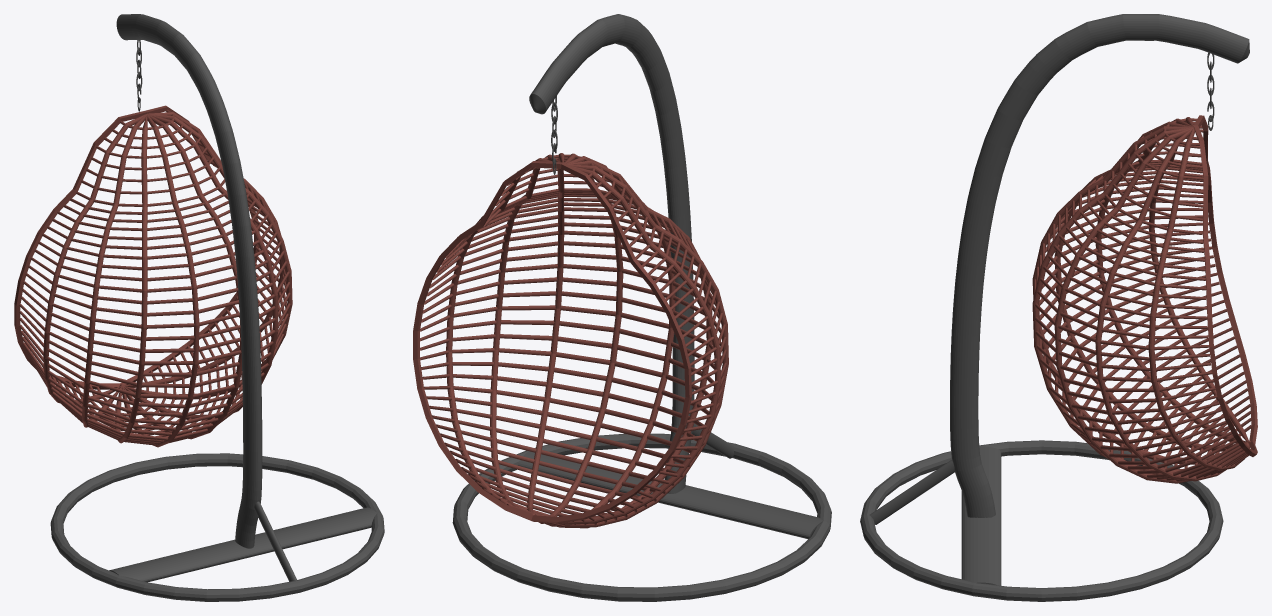
Rendered from duyan-1.fbx.
The picture shows the model from 3 angles, left to right: view 1: azimuth 30°, elevation 25°; view 2: azimuth 150°, elevation 25°; view 3: azimuth 270°, elevation 25°; orthographic projection. The views are drawn at different scales.
Visible parts, largest first — view 1: Sphere.001, Cylinder.003, Cylinder.004, Cylinder.005, Cylinder.002; view 2: Sphere.001, Cylinder.004, Cylinder.003, Cylinder.005; view 3: Sphere.001, Cylinder.003, Cylinder.004, Cylinder.005, Cylinder.002.
Boxes of the visible parts, bbox=[...] form: Sphere.001: bbox=[14, 105, 292, 447]; Cylinder.003: bbox=[116, 14, 262, 548]; Cylinder.004: bbox=[50, 453, 384, 601]; Cylinder.005: bbox=[109, 507, 376, 582]; Cylinder.002: bbox=[254, 501, 296, 581]; Sphere.001: bbox=[413, 153, 728, 528]; Cylinder.004: bbox=[452, 433, 831, 601]; Cylinder.003: bbox=[529, 14, 694, 493]; Cylinder.005: bbox=[517, 451, 822, 538]; Sphere.001: bbox=[1032, 115, 1257, 483]; Cylinder.003: bbox=[950, 14, 1249, 517]; Cylinder.004: bbox=[860, 440, 1223, 601]; Cylinder.005: bbox=[961, 446, 1001, 585]; Cylinder.002: bbox=[869, 460, 954, 524].
Bounding box in the file's own units: 34.65 × 53.93 × 37.92.
